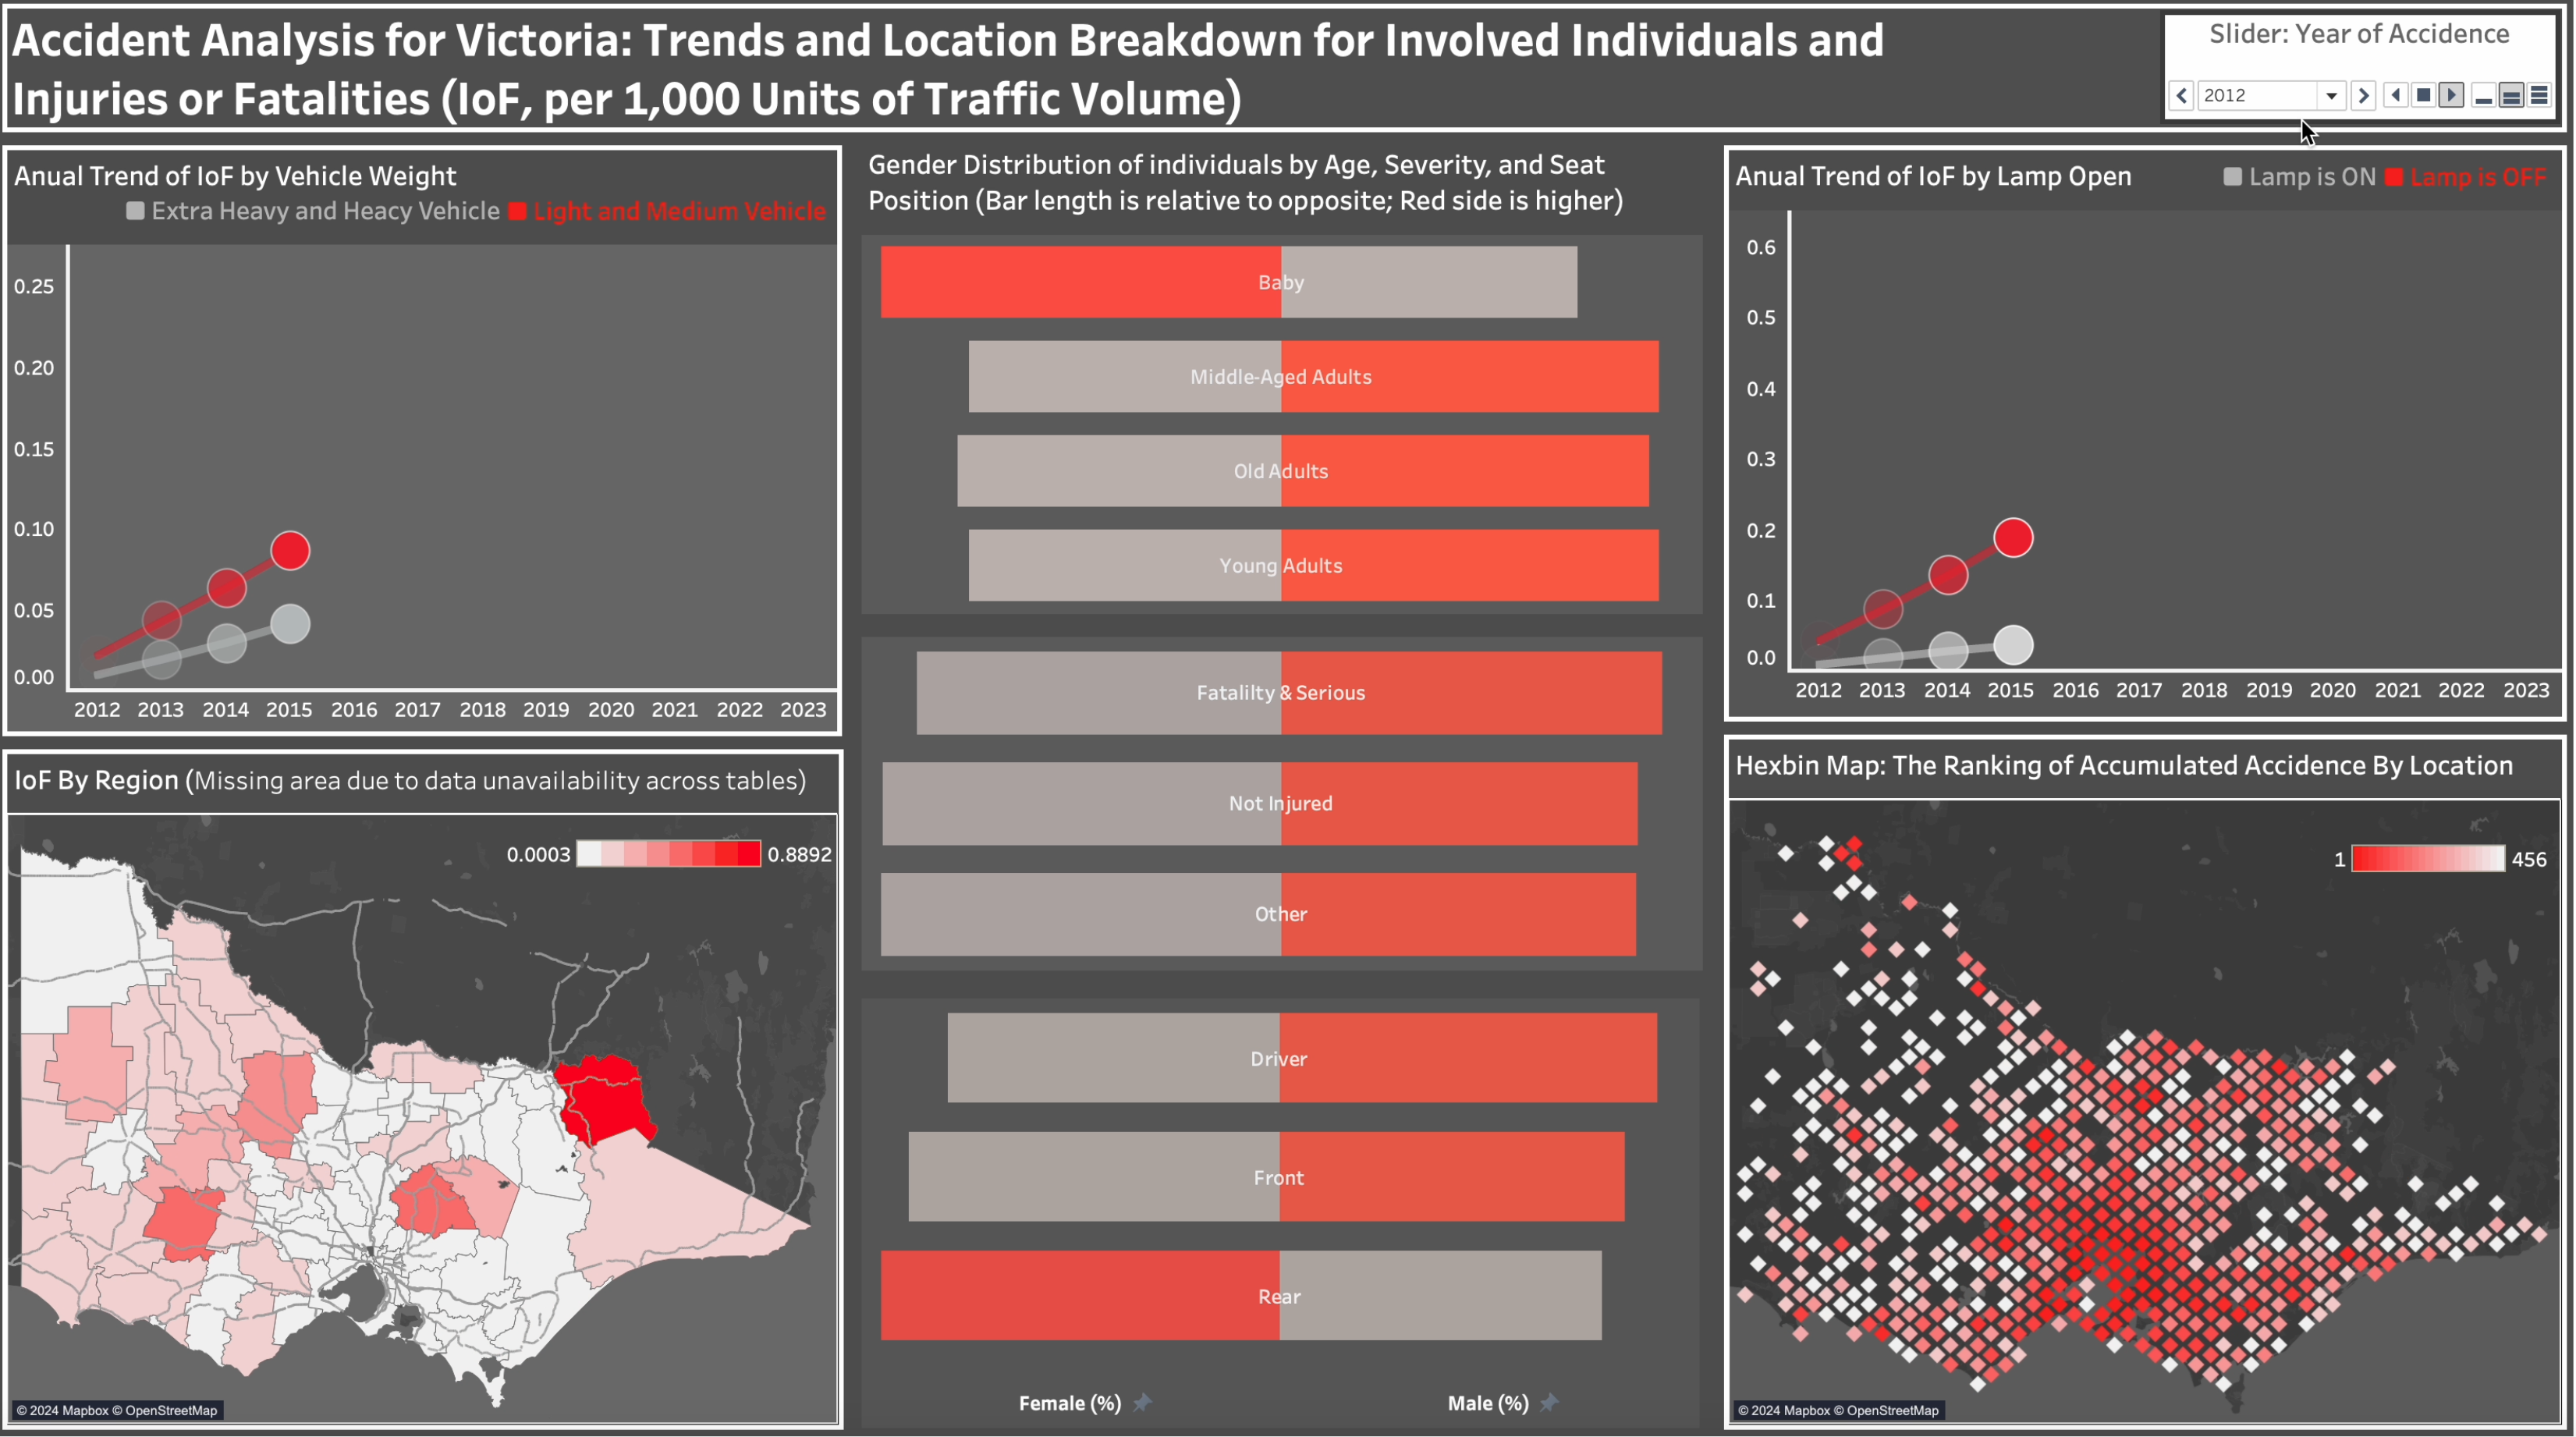

Layout of this report page (visuals, bound fields, positions):
{"tool":"tableau","page":{"name":"Final Dashboard","canvas":[1600,900],"ordinal":0},"visuals":[{"type":"text","box":[8,8,1584,87]},{"type":"currpage","title":"IoF (Weight)","box":[1338,16,246,70]},{"type":"worksheet","title":"IoF (Weight)","mark":"Circle","rows":["Calculation_1573585907843092485"],"cols":["ACCIDENT_DATE"],"box":[8,95,525,371]},{"type":"worksheet","title":"Butterfly Chart (Percentage of age)","mark":"Automatic","cols":["Calculation_1995305793380442112","Calculation_1995305793380442112"],"box":[533,95,533,298]},{"type":"worksheet","title":"IoF (Lamps)","mark":"Circle","rows":["Calculation_1573585907843092485"],"cols":["ACCIDENT_DATE"],"box":[1066,95,525.8,362]},{"type":"worksheet","title":"Butterfly Chart (Severity)","mark":"Automatic","cols":["Calculation_1995305793380442112","Calculation_1995305793380442112"],"box":[533,393,533,226]},{"type":"worksheet","title":"Hexin Map","mark":"Shape","rows":["Hexbin X (copy)_1600255663307976708"],"cols":["Calculation_1600255663307780099"],"box":[1066,457,525.8,435]},{"type":"worksheet","title":"Iof by Region","mark":"Multipolygon","box":[8,466,525,426]},{"type":"legend","title":"Iof by Region","param":"[federated.0ghutwx0qc9yqf169422x00dq27l].[usr:Calculation_1573585907843092485:qk","box":[318,504,209,94]},{"type":"legend","title":"Hexin Map","param":"[federated.0ghutwx0qc9yqf169422x00dq27l].[rank:usr:Calculation_16002556633081323","box":[1441,525,140,76]},{"type":"worksheet","title":"Butterfly Chart (Seat Position)","mark":"Automatic","cols":["Calculation_1995305793380442112","Calculation_1995305793380442112"],"box":[533,619,533,272]}]}

Visuals, with their boxes in screenshot pixels (x1, y1, x2, y2), scaled from the page's 1600x900 canvas onto the 2576x1437 screenshot:
text: locate(13, 12, 2563, 151)
"IoF (Weight)" currpage: locate(2154, 26, 2550, 137)
"IoF (Weight)" worksheet (Circle marks): locate(13, 151, 858, 744)
"Butterfly Chart (Percentage of age)" worksheet: locate(858, 151, 1716, 627)
"IoF (Lamps)" worksheet (Circle marks): locate(1716, 151, 2563, 729)
"Butterfly Chart (Severity)" worksheet: locate(858, 627, 1716, 988)
"Hexin Map" worksheet (Shape marks): locate(1716, 729, 2563, 1425)
"Iof by Region" worksheet (Multipolygon marks): locate(13, 744, 858, 1425)
"Iof by Region" legend: locate(512, 805, 849, 955)
"Hexin Map" legend: locate(2320, 838, 2546, 960)
"Butterfly Chart (Seat Position)" worksheet: locate(858, 988, 1716, 1423)
